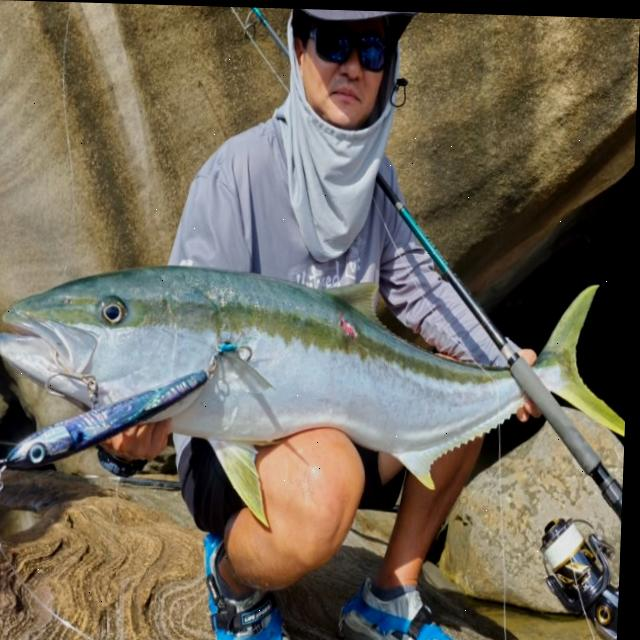Kingfish: (0, 255, 633, 496)
